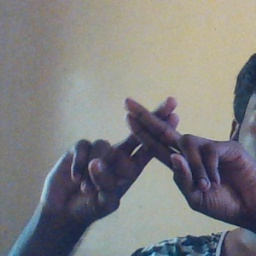F: (78, 88, 228, 200)
